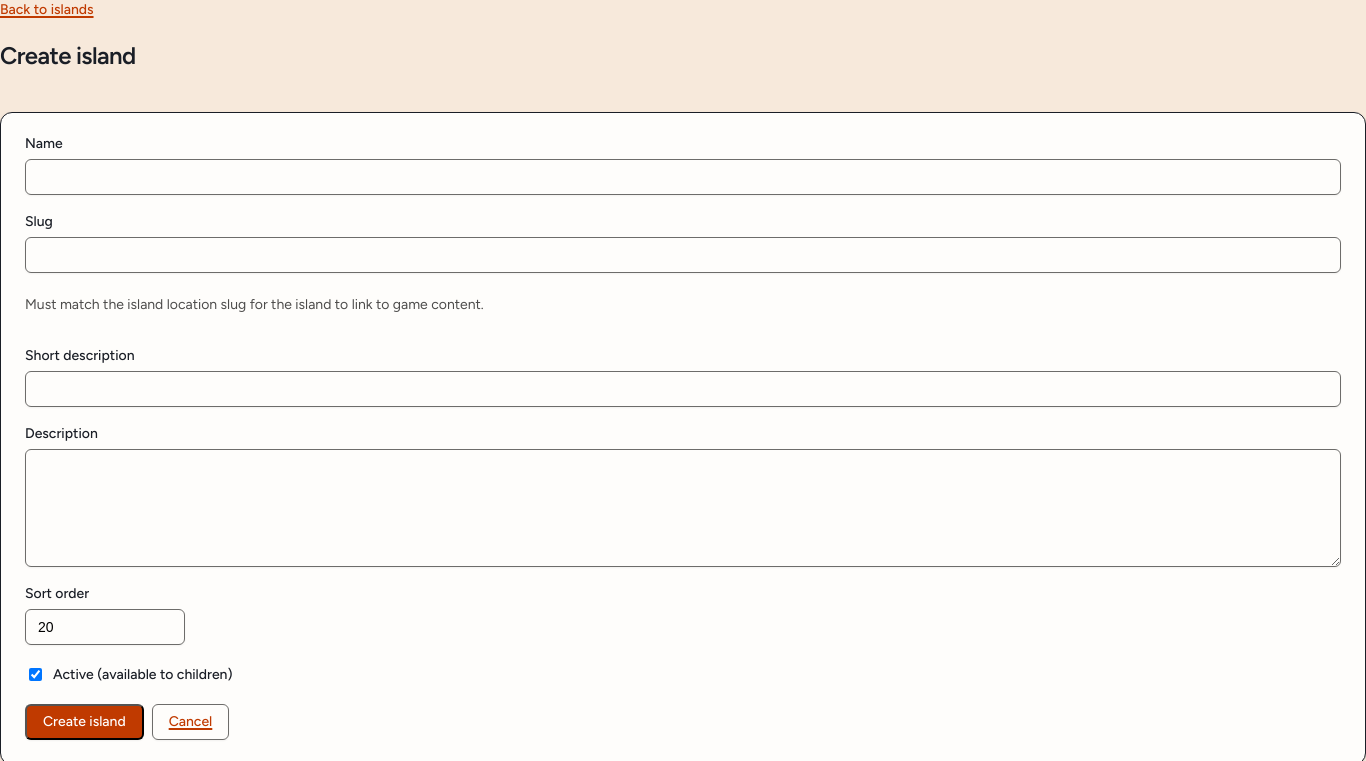
Scenario: AdminIslandForm › refuses a slug another island already uses
Type "Dragon's Sanctuary" into the field labelled "Name" at {"x": 683, "y": 177}, box left=25, top=159, right=1341, bottom=195
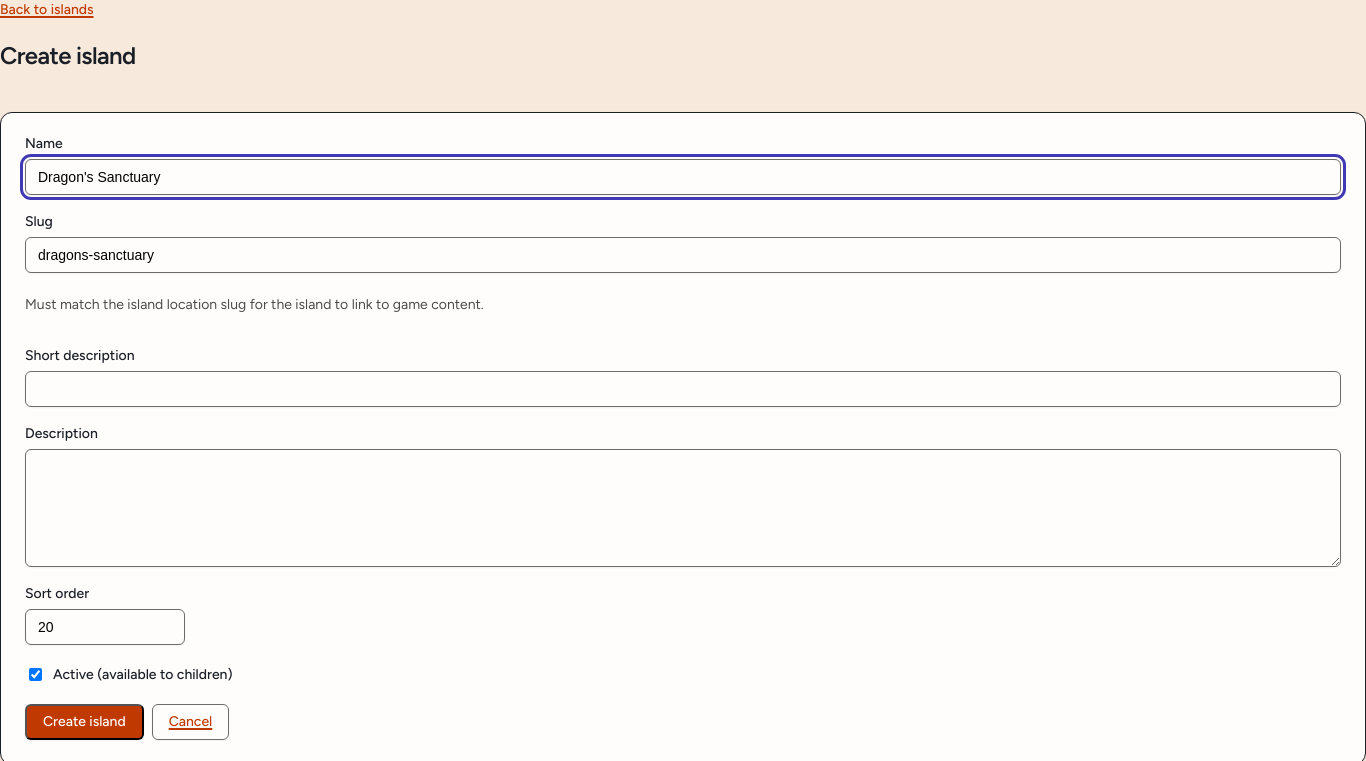
Click the button "Create island" at {"x": 84, "y": 722}, box left=25, top=704, right=144, bottom=740
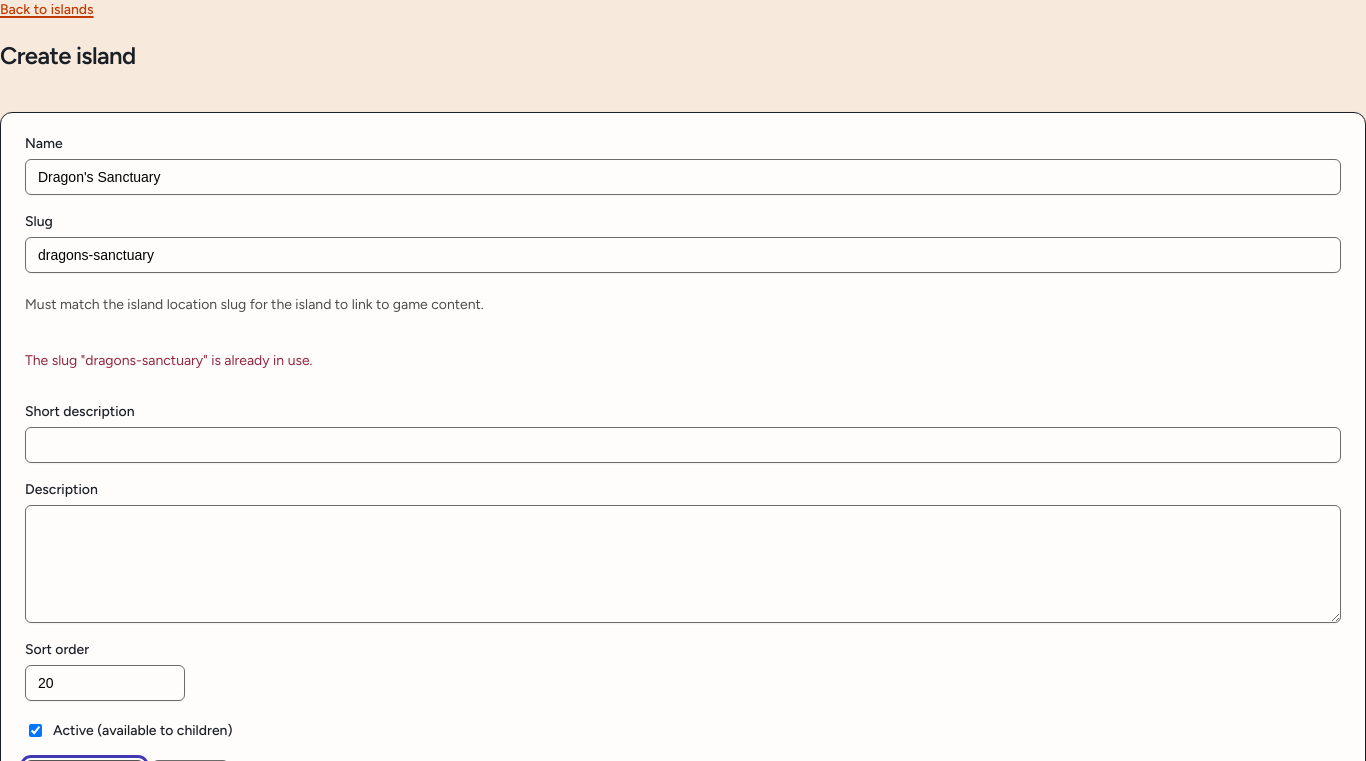
Expected: the text "The slug \"dragons-sanctuary\" is already in use." is shown, left=25, top=352, right=312, bottom=369
